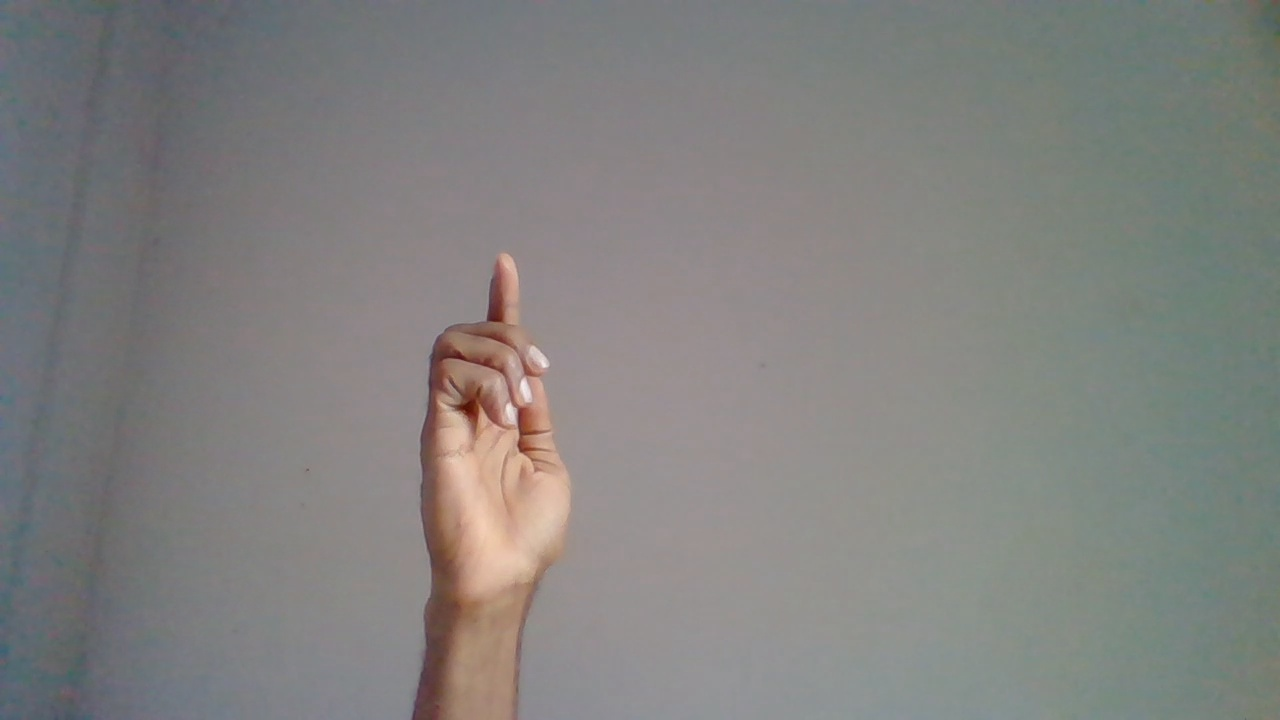qe: (423, 255, 579, 703)
